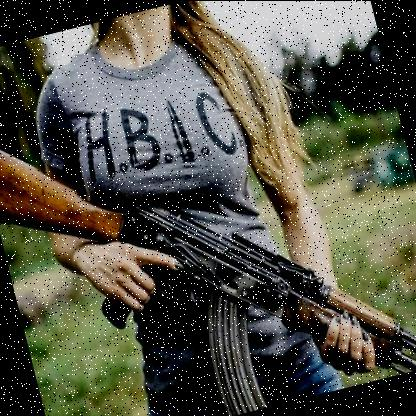rifle: (0, 41, 416, 416)
